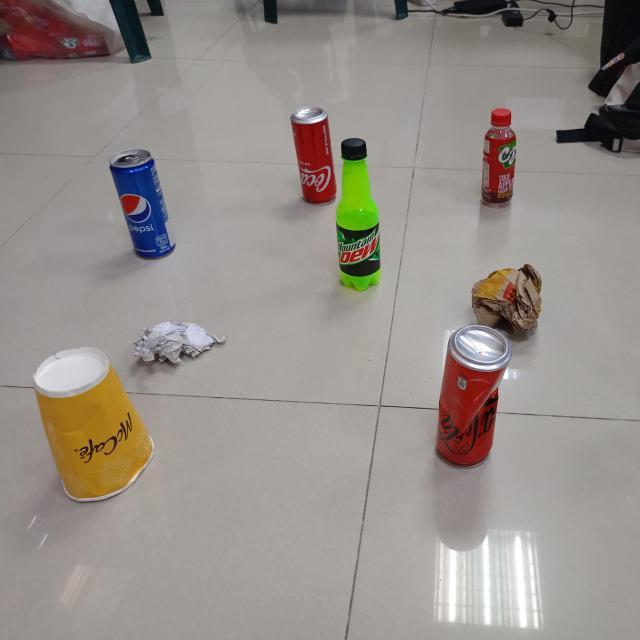recyclable waste: (24, 342, 160, 504), (428, 320, 516, 471), (331, 133, 389, 295), (103, 144, 180, 263), (466, 259, 546, 341), (285, 102, 342, 208), (128, 318, 232, 369), (476, 103, 520, 209)
